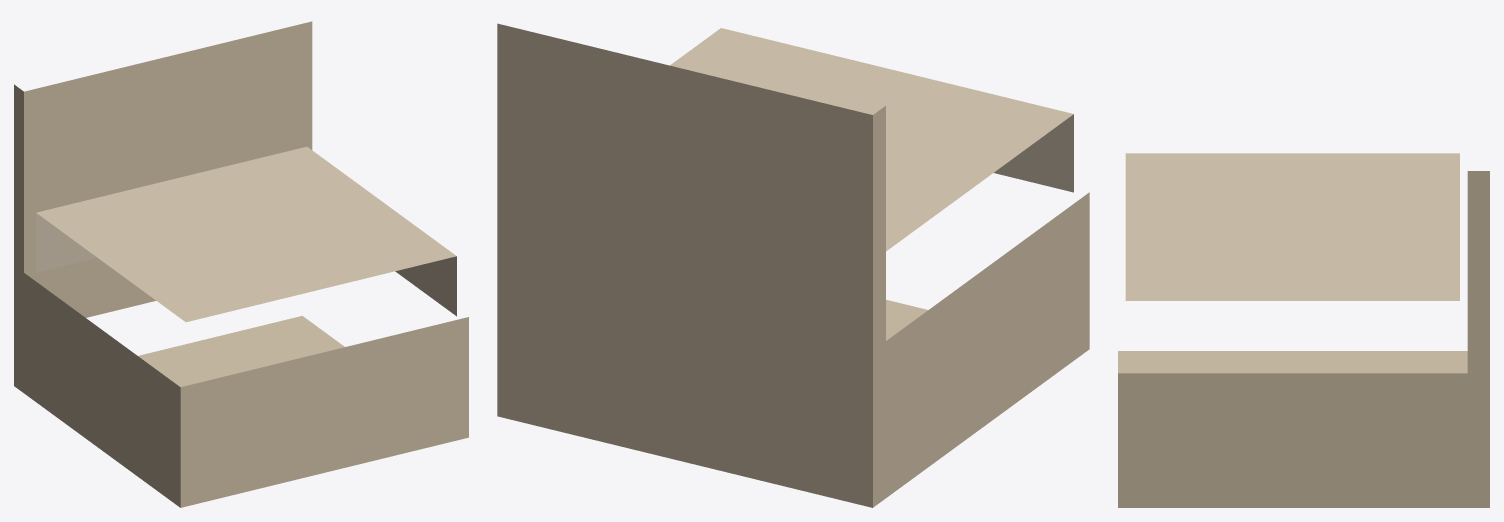
The model's file is Bed-beige.glb.
3 views of the same model, side by side, from view 1: azimuth 30°, elevation 25°; view 2: azimuth 150°, elevation 25°; view 3: azimuth 270°, elevation 25° (orthographic). The views are drawn at different scales.
Visible parts, largest first — view 1: Bed; view 2: Bed; view 3: Bed.
Boxes of the visible parts, x1,y1,x2,y2 form: Bed: (14, 21, 468, 507); Bed: (497, 23, 1089, 507); Bed: (1118, 153, 1489, 507).
Size of the model in its own units: 1 by 1 by 1.
